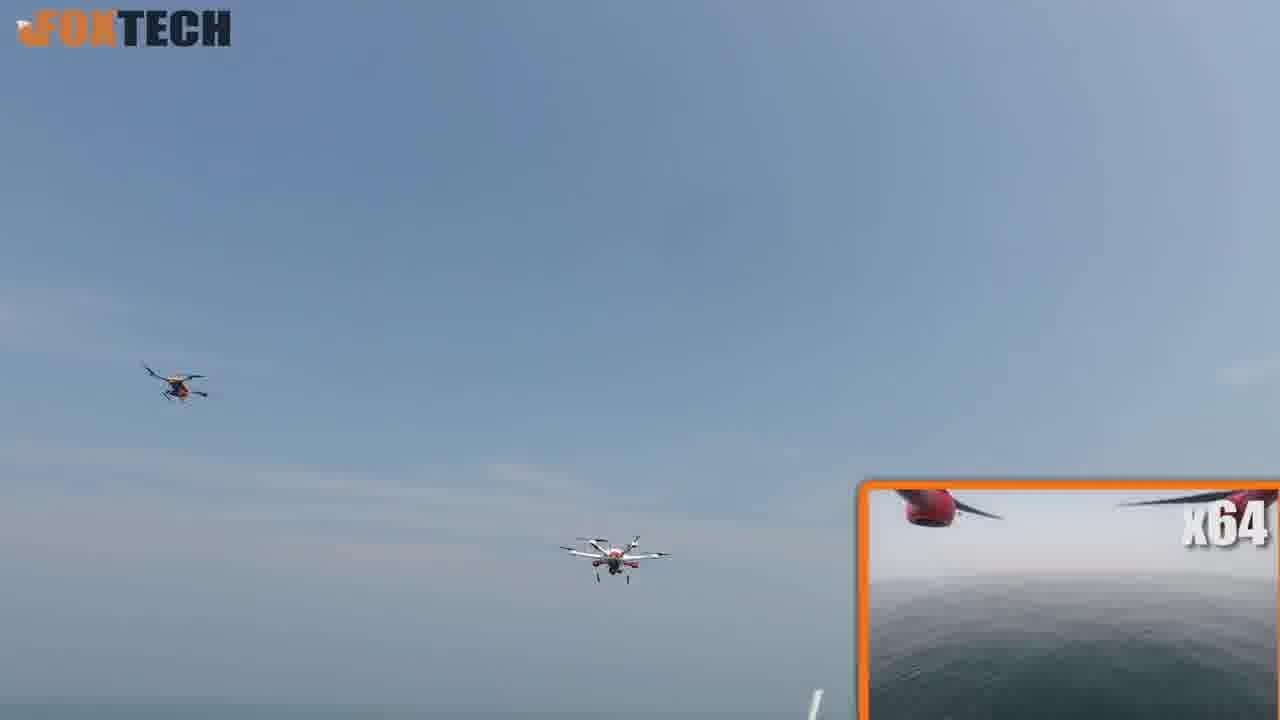drone: (559, 528, 669, 584), (139, 363, 216, 404)
